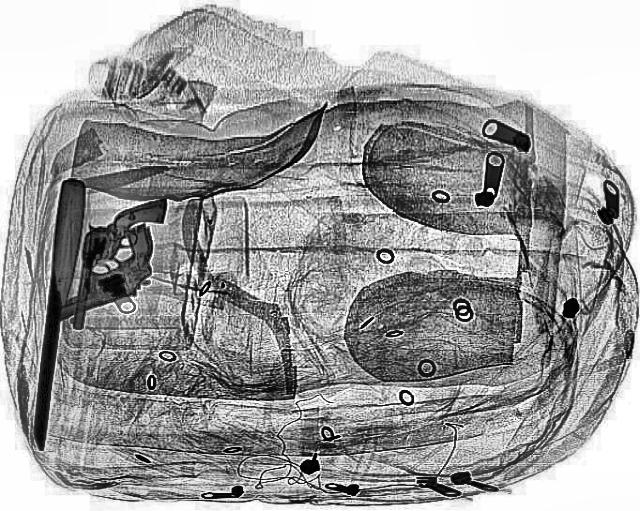Gun: (18, 221, 182, 322), (70, 192, 166, 334)
Knife: (23, 177, 88, 449)
